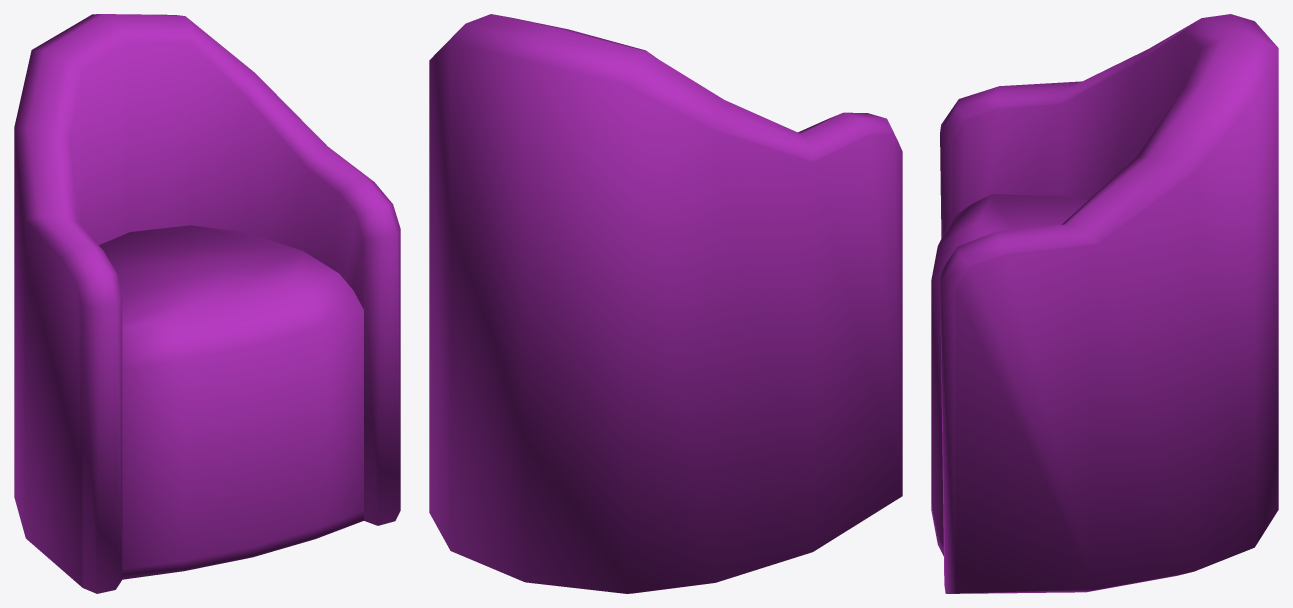
The model's file is Nightclub_Seat.fbx.
3 views of the same model, side by side, from view 1: azimuth 30°, elevation 25°; view 2: azimuth 150°, elevation 25°; view 3: azimuth 270°, elevation 25° (orthographic). The views are drawn at different scales.
Parts seen in each view (by area): view 1: Cube.216; view 2: Cube.216; view 3: Cube.216.
Part boxes in pixels (x1,y1,x2,y2): Cube.216: [14, 14, 400, 593]; Cube.216: [429, 14, 902, 593]; Cube.216: [931, 14, 1278, 593].
Bounding box in the file's own units: 95.8 × 127 × 83.67.
